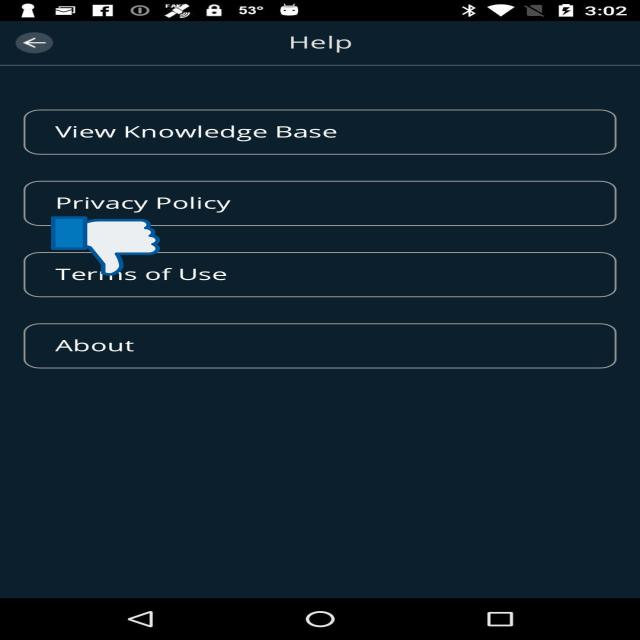obstruction: (51, 215, 160, 277)
